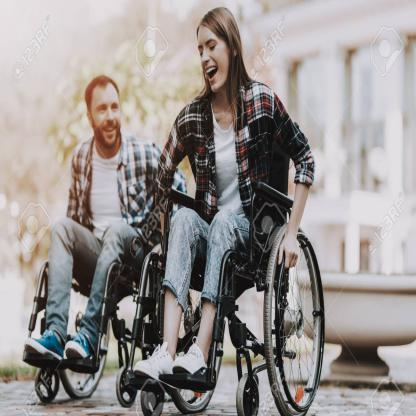wheelchair: (116, 10, 331, 416), (29, 72, 190, 407)
